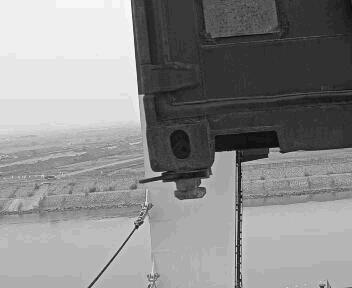twist_lock_1: (147, 163, 211, 206)
